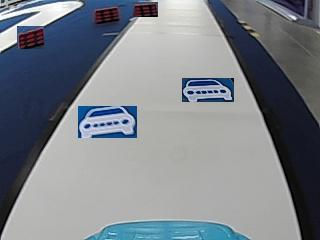bomb: (94, 5, 119, 22)
